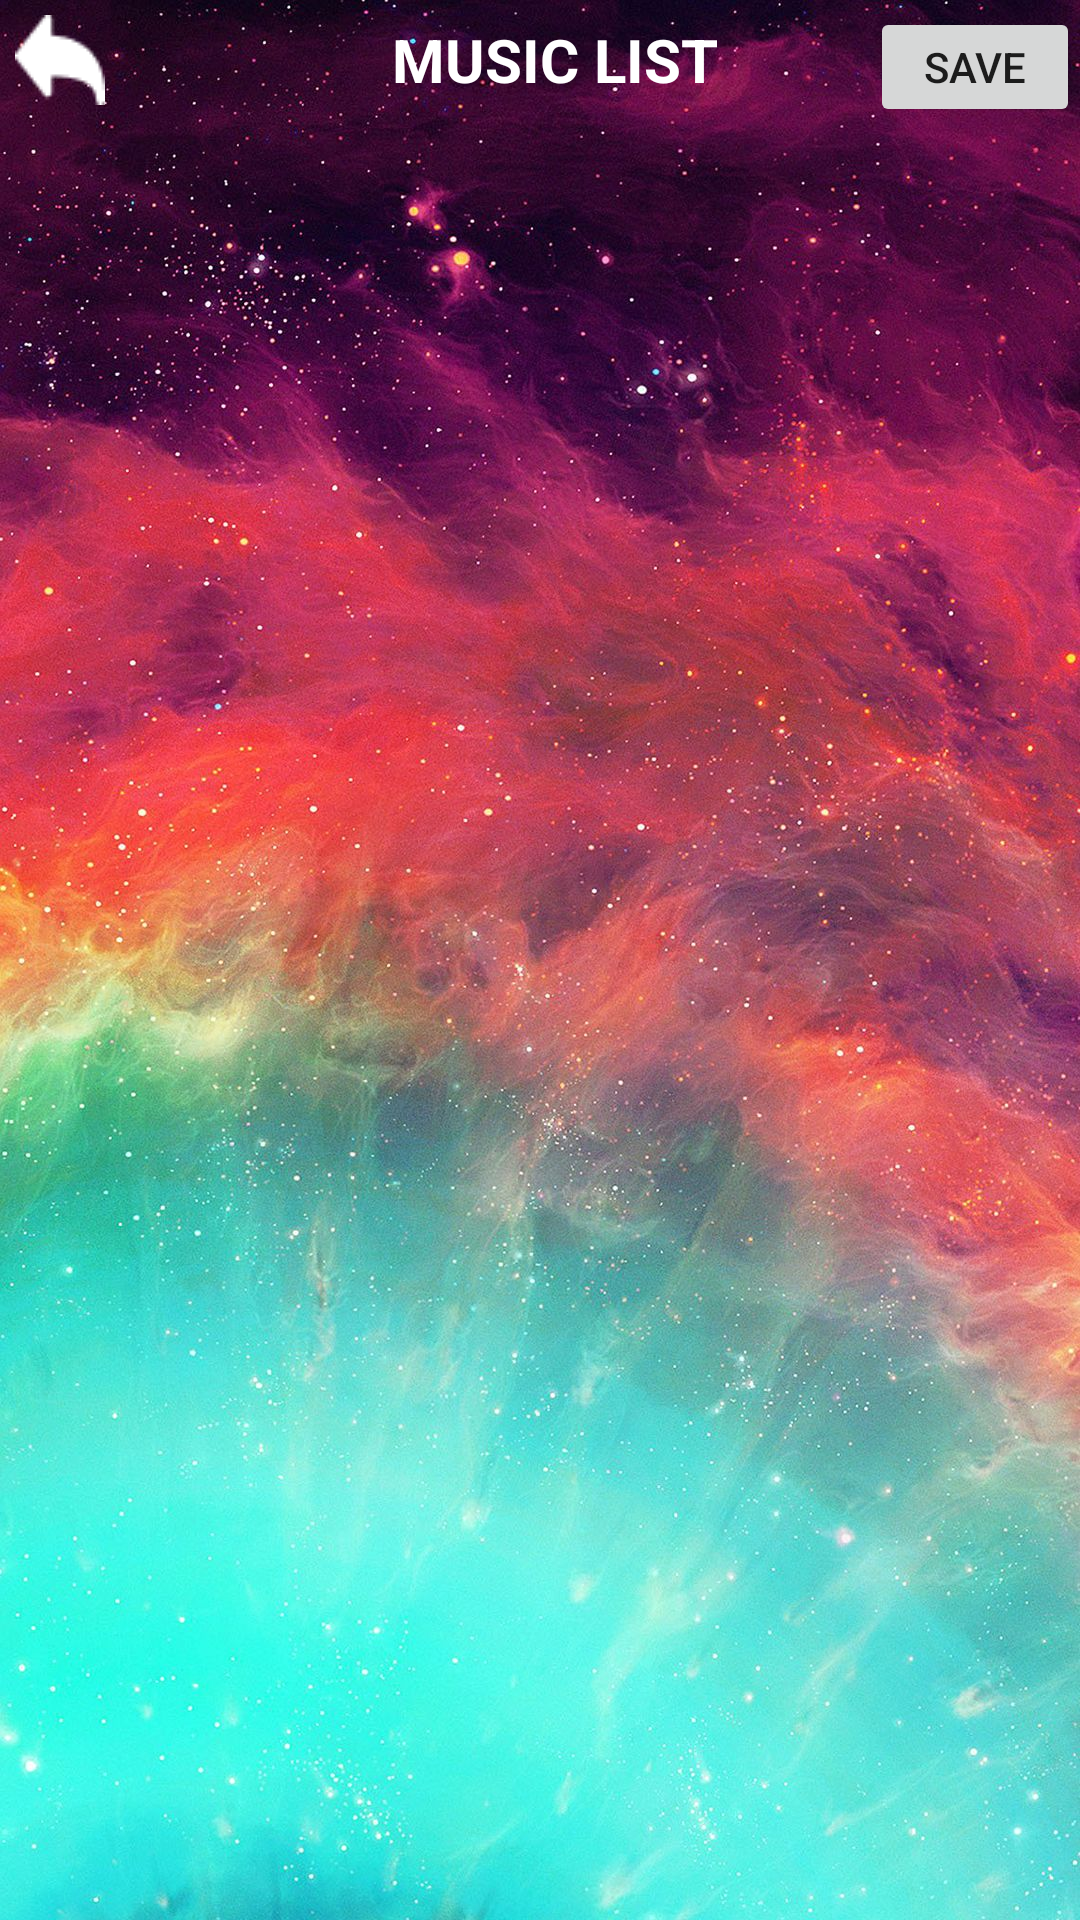

Locate icon controls on the screen. Image size 1080x1920, boxes as (x1, y1, x2, y2).
back: (0, 0, 120, 120)
